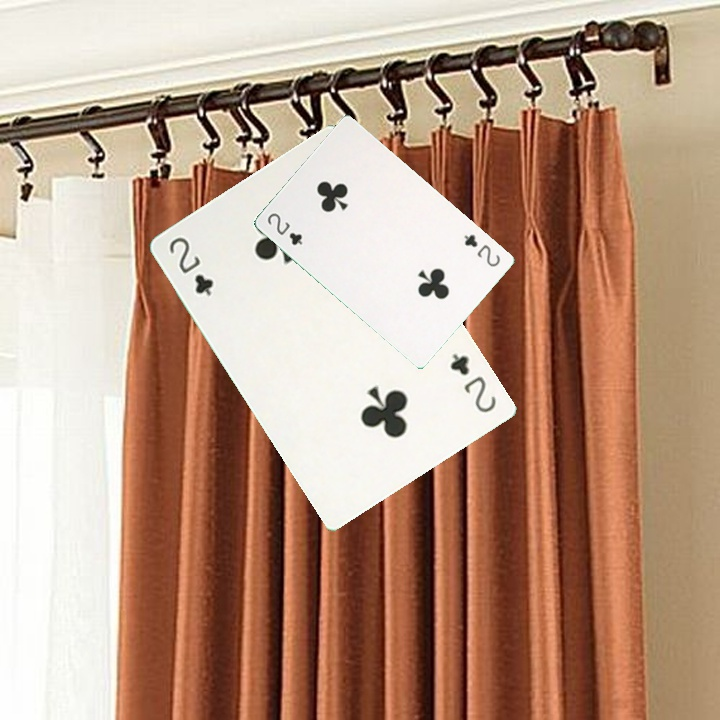2c: (446, 349, 499, 416), (164, 232, 216, 298), (460, 230, 503, 270), (263, 209, 305, 248)
